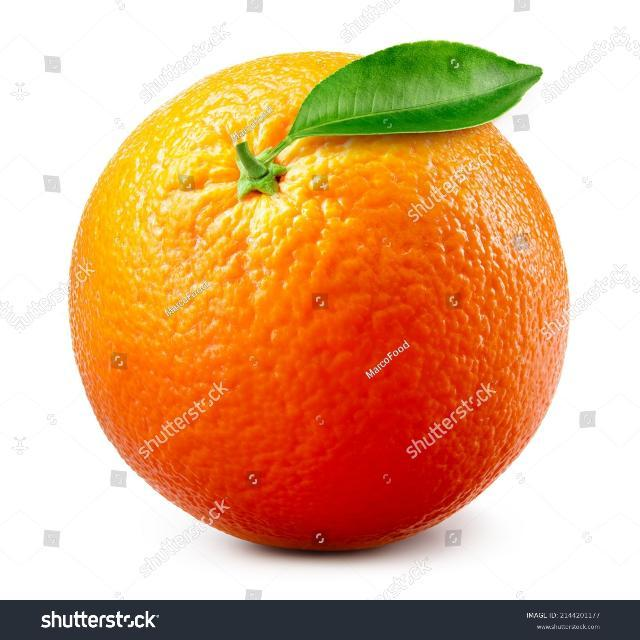Orange: (67, 48, 571, 553)
